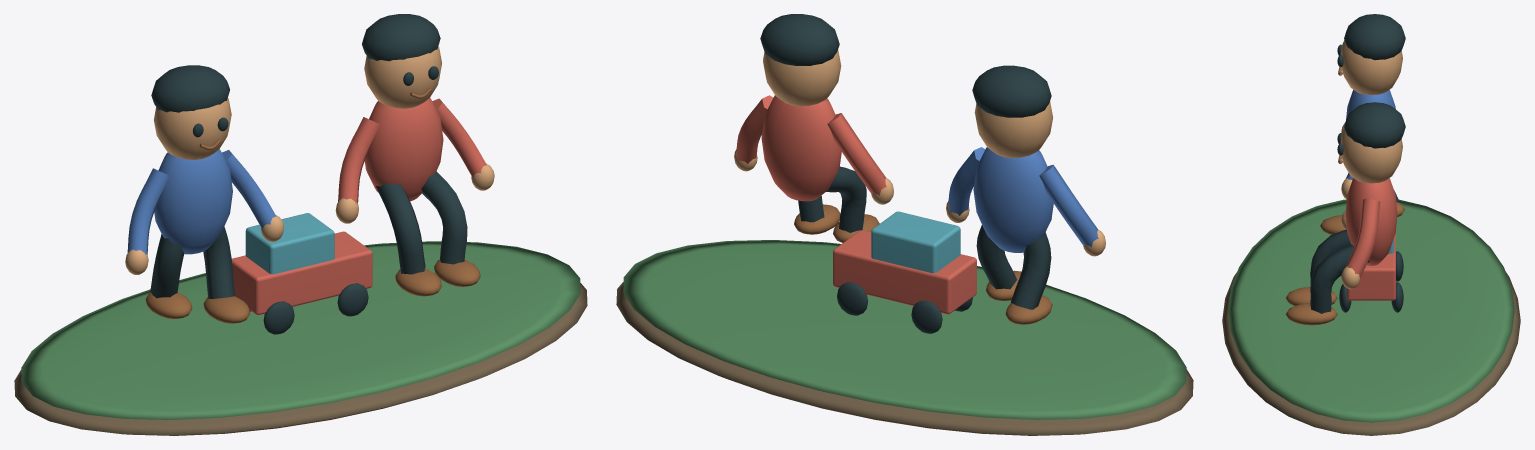
Rendered from riding-seated.glb.
3 renders of one model, left to right at view 1: azimuth 30°, elevation 25°; view 2: azimuth 150°, elevation 25°; view 3: azimuth 270°, elevation 25°, orthographic. The views are drawn at different scales.
Parts seen in each view (by area): view 1: riding-seated_surface_01, riding-seated_surface_03, riding-seated_surface_06, riding-seated_surface_00, riding-seated_surface_05, riding-seated_surface_02, riding-seated_surface_04, riding-seated_surface_07; view 2: riding-seated_surface_01, riding-seated_surface_06, riding-seated_surface_03, riding-seated_surface_00, riding-seated_surface_05, riding-seated_surface_02, riding-seated_surface_07, riding-seated_surface_04; view 3: riding-seated_surface_01, riding-seated_surface_03, riding-seated_surface_06, riding-seated_surface_00, riding-seated_surface_02, riding-seated_surface_04, riding-seated_surface_05.
Boxes of the visible parts, x1=… form: riding-seated_surface_01: x1=21, y1=241, x2=580, y2=419; riding-seated_surface_03: x1=150, y1=14, x2=467, y2=334; riding-seated_surface_06: x1=231, y1=98, x2=486, y2=314; riding-seated_surface_00: x1=14, y1=283, x2=587, y2=435; riding-seated_surface_05: x1=127, y1=149, x2=276, y2=254; riding-seated_surface_02: x1=125, y1=46, x2=494, y2=274; riding-seated_surface_04: x1=145, y1=88, x2=480, y2=323; riding-seated_surface_07: x1=245, y1=213, x2=334, y2=274; riding-seated_surface_01: x1=623, y1=240, x2=1186, y2=419; riding-seated_surface_06: x1=736, y1=95, x2=976, y2=314; riding-seated_surface_03: x1=760, y1=14, x2=1051, y2=333; riding-seated_surface_00: x1=616, y1=282, x2=1193, y2=435; riding-seated_surface_05: x1=948, y1=147, x2=1098, y2=252; riding-seated_surface_02: x1=734, y1=49, x2=1105, y2=256; riding-seated_surface_07: x1=871, y1=211, x2=960, y2=273; riding-seated_surface_04: x1=794, y1=204, x2=1052, y2=324; riding-seated_surface_01: x1=1228, y1=199, x2=1514, y2=422; riding-seated_surface_03: x1=1310, y1=14, x2=1405, y2=313; riding-seated_surface_06: x1=1345, y1=178, x2=1397, y2=300; riding-seated_surface_00: x1=1222, y1=272, x2=1520, y2=435; riding-seated_surface_02: x1=1340, y1=40, x2=1402, y2=289; riding-seated_surface_04: x1=1285, y1=67, x2=1404, y2=325; riding-seated_surface_05: x1=1345, y1=90, x2=1395, y2=179.
Size of the model in its own units: 4.56 by 2.5 by 2.5.
